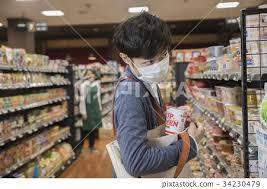shoplifting: (123, 87, 246, 168)
